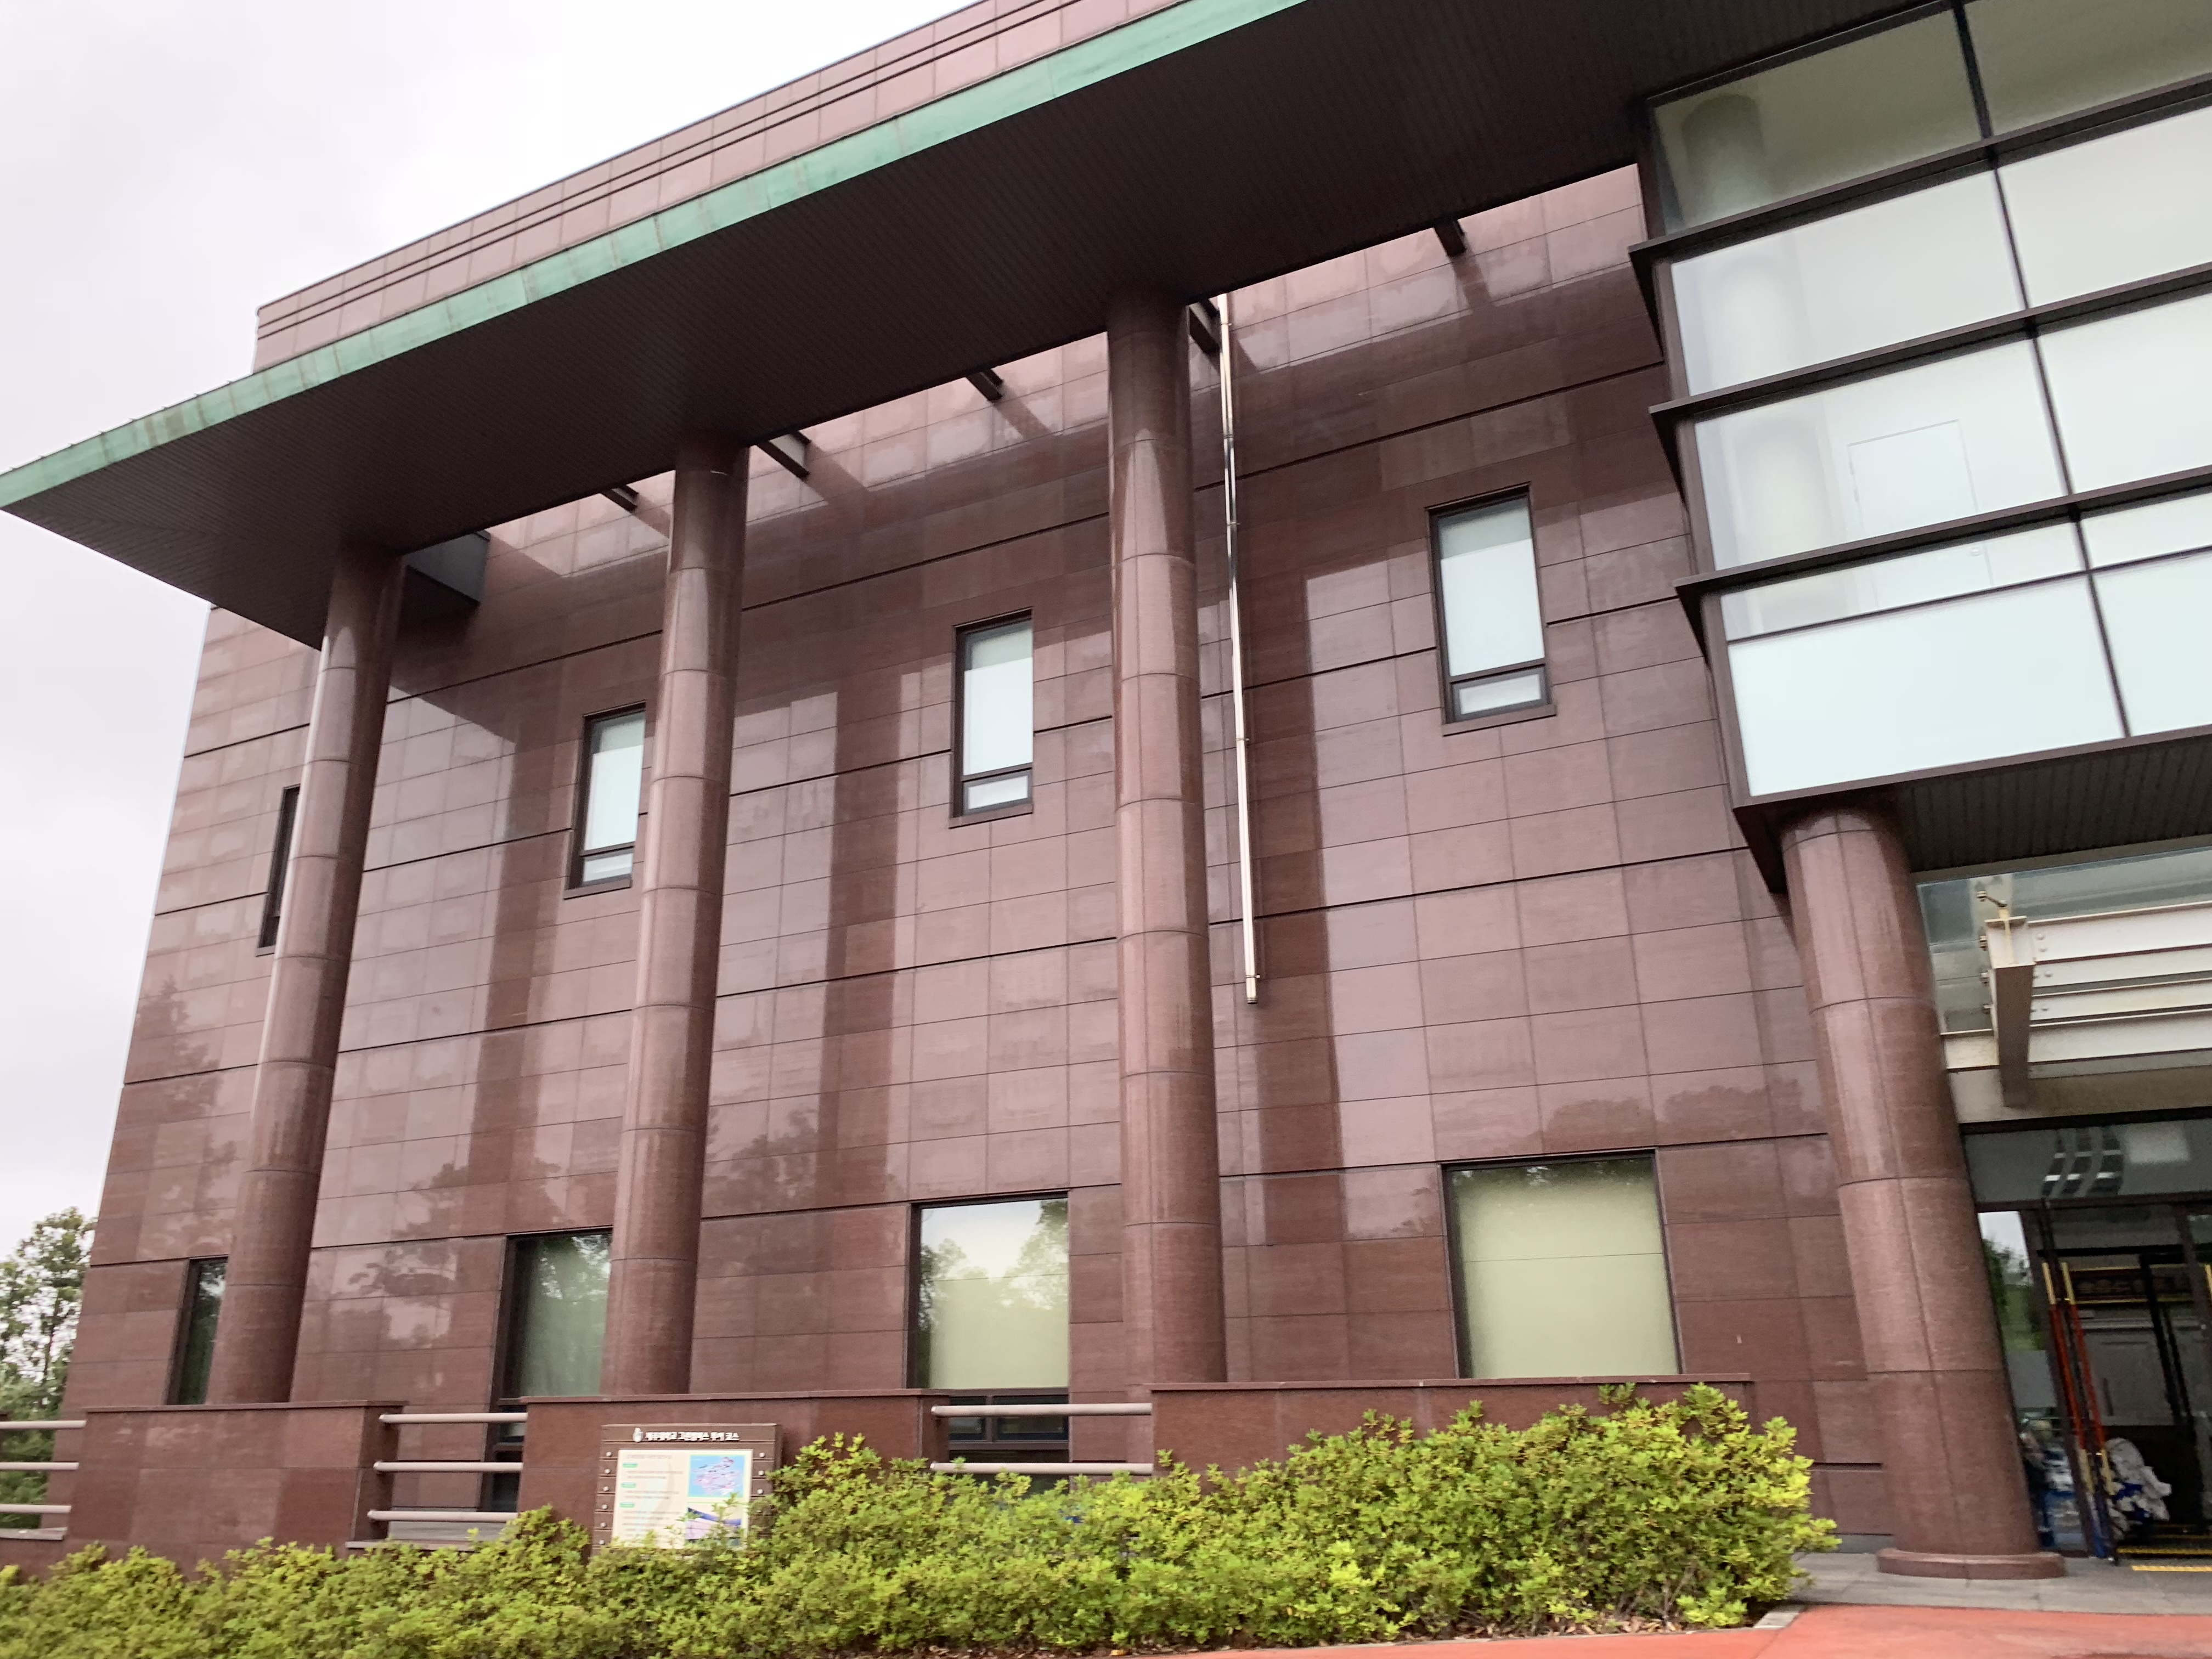Museum: (179, 204, 2142, 1480)
